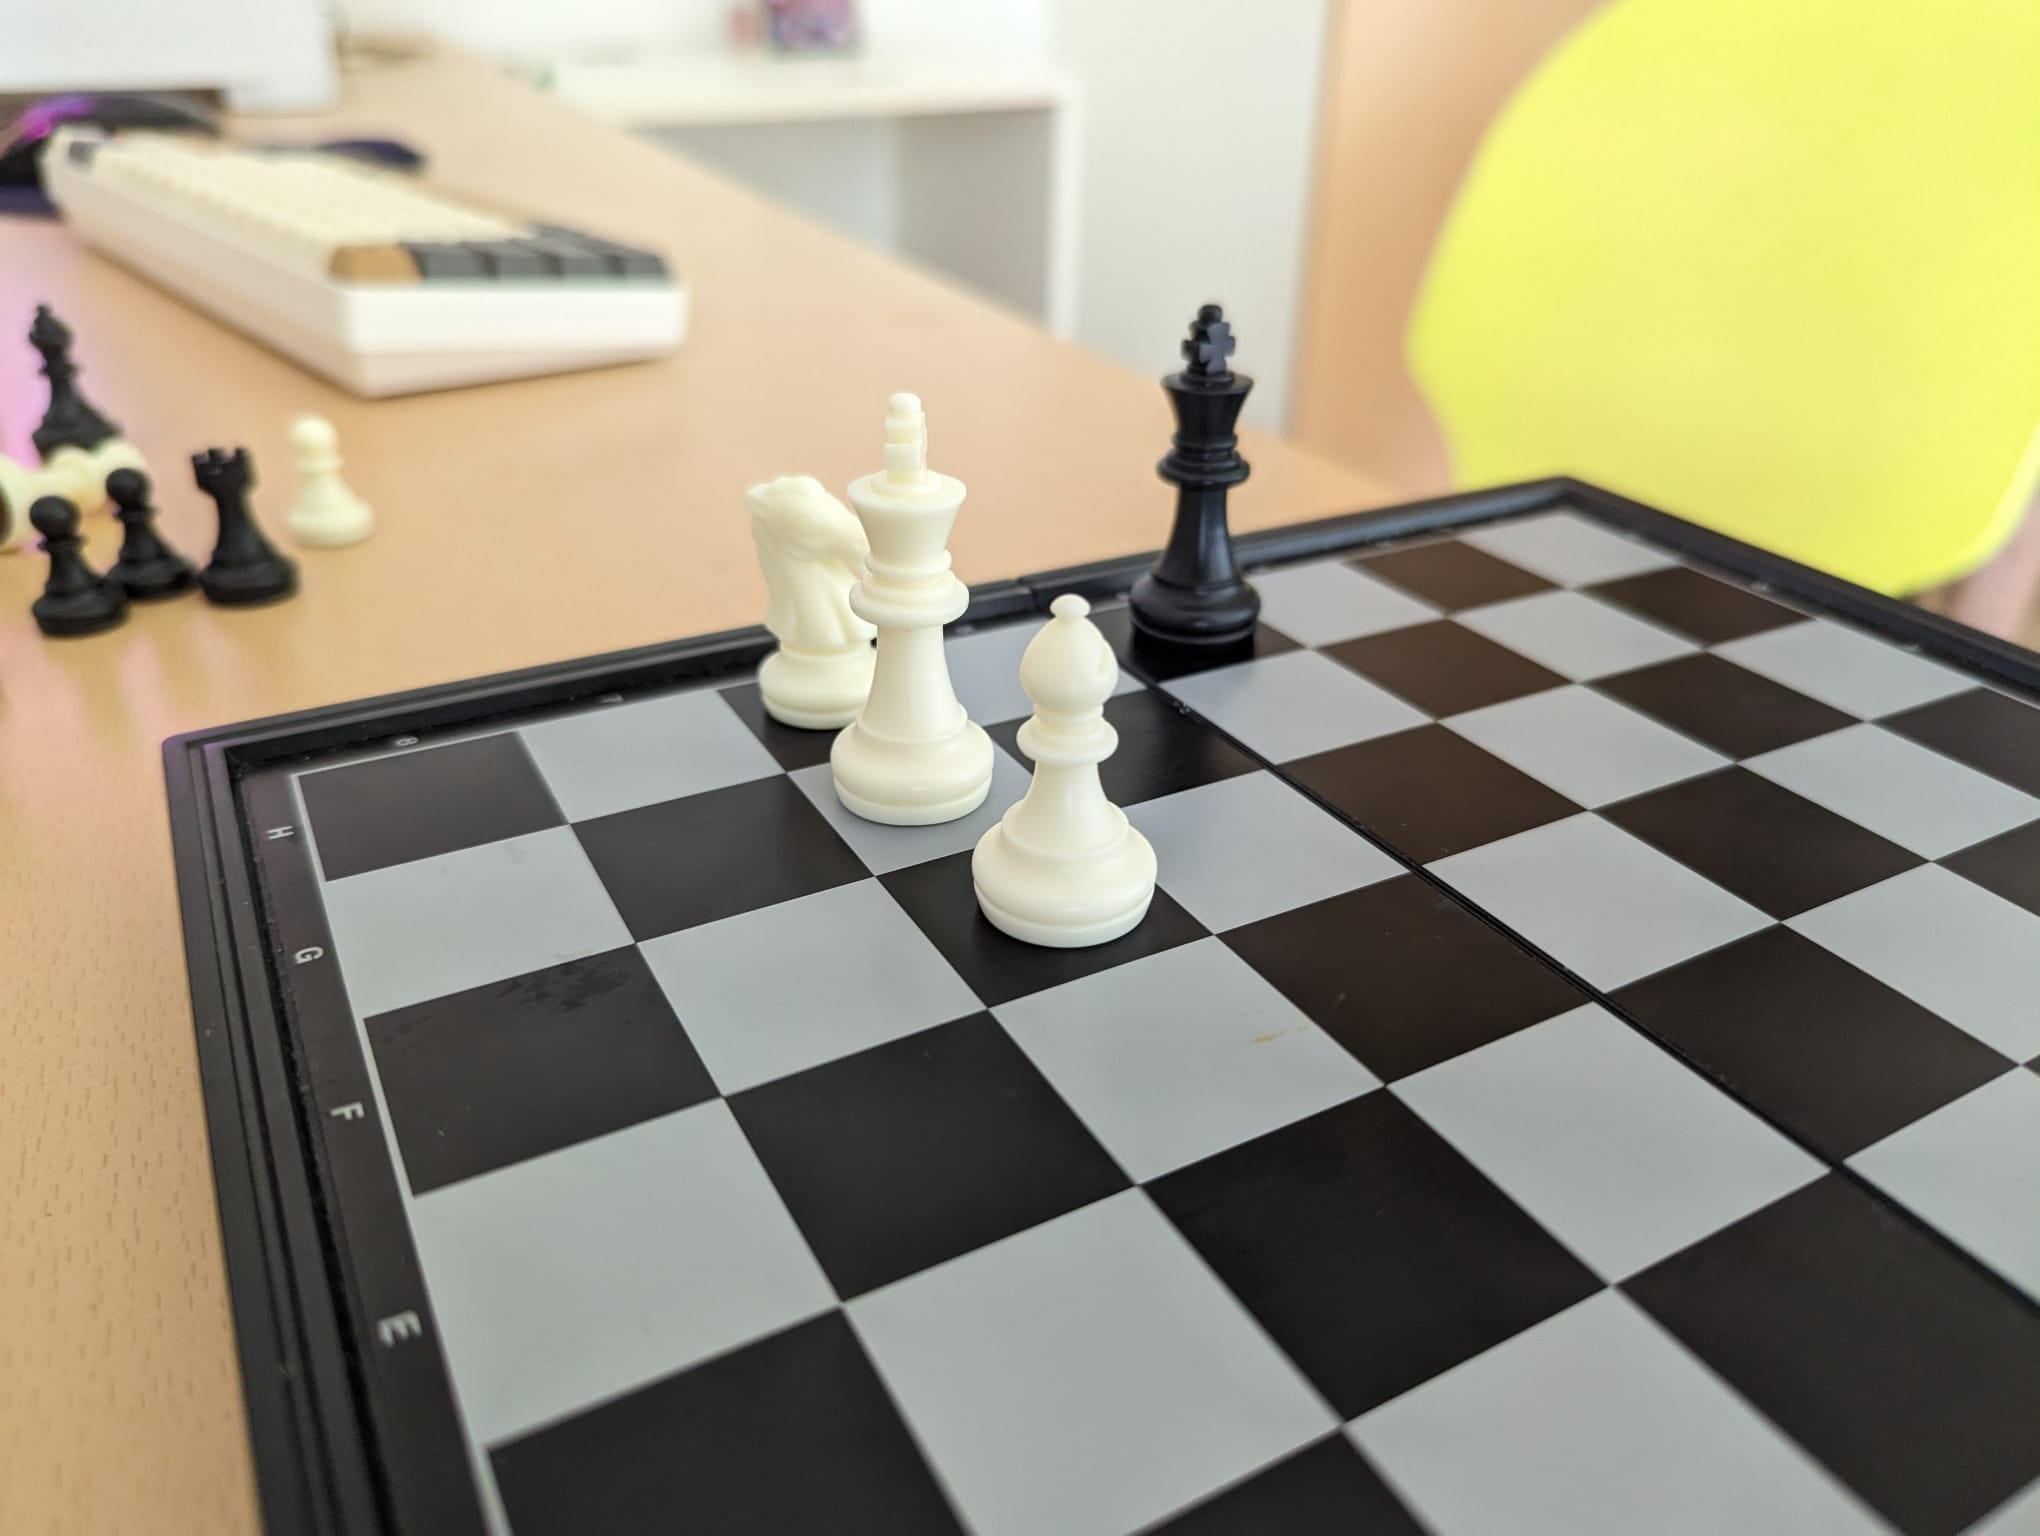BK: (1122, 298, 1264, 653)
WB: (971, 586, 1155, 947)
WK: (834, 386, 1000, 828)
WN: (727, 444, 877, 726)
